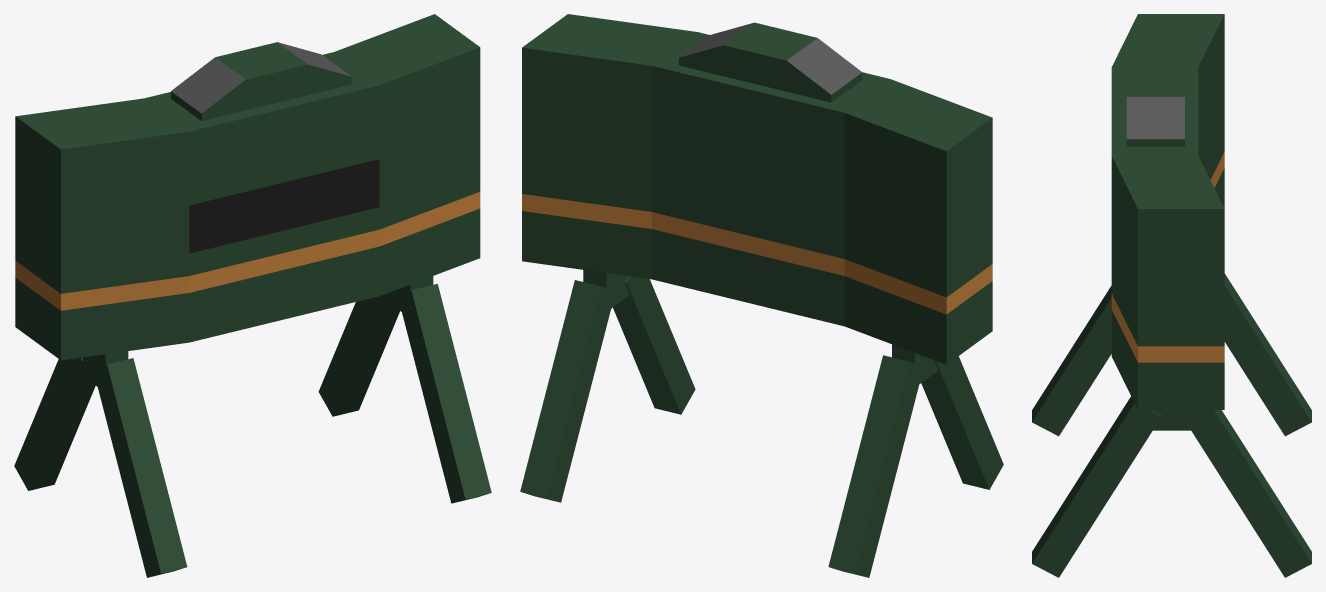
File: claymore_1.fbx
3 views of the same model, side by side, from view 1: azimuth 30°, elevation 25°; view 2: azimuth 150°, elevation 25°; view 3: azimuth 270°, elevation 25° (orthographic). The views are drawn at different scales.
Visible parts, largest first — view 1: body.010, legs; view 2: body.010, legs; view 3: body.010, legs.
Part boxes in pixels (x1,y1,x2,y2): body.010: [15, 14, 480, 386]; legs: [14, 284, 491, 577]; body.010: [522, 14, 992, 383]; legs: [520, 276, 1003, 577]; body.010: [1111, 14, 1224, 430]; legs: [1032, 273, 1311, 577].
Bounding box in the file's own units: 155 × 94.27 × 156.
